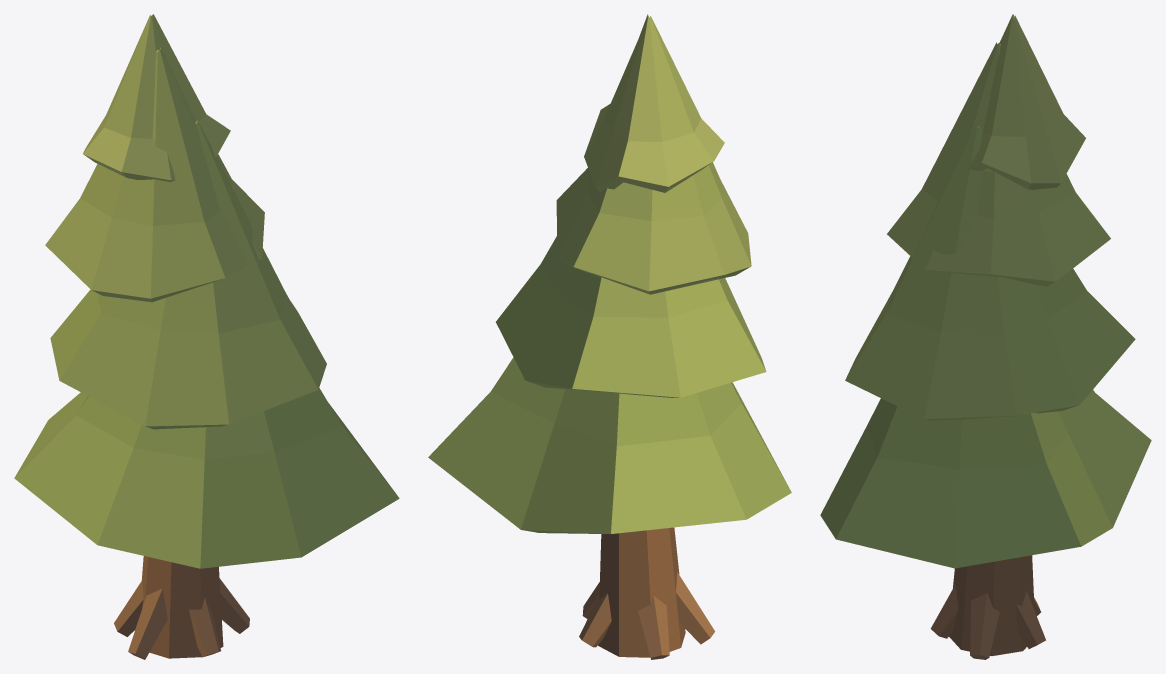
Rendered from forage_0_summer.glb.
The picture shows the model from 3 angles, left to right: view 1: azimuth 30°, elevation 25°; view 2: azimuth 150°, elevation 25°; view 3: azimuth 270°, elevation 25°; orthographic projection. The views are drawn at different scales.
Parts seen in each view (by area): view 1: Rohstoff 0 · summer; view 2: Rohstoff 0 · summer; view 3: Rohstoff 0 · summer.
Boxes of the visible parts, x1=… form: Rohstoff 0 · summer: x1=14, y1=14, x2=399, y2=659; Rohstoff 0 · summer: x1=428, y1=14, x2=791, y2=659; Rohstoff 0 · summer: x1=820, y1=14, x2=1151, y2=659.
Size of the model in its own units: 2.53 by 4.96 by 2.42.
